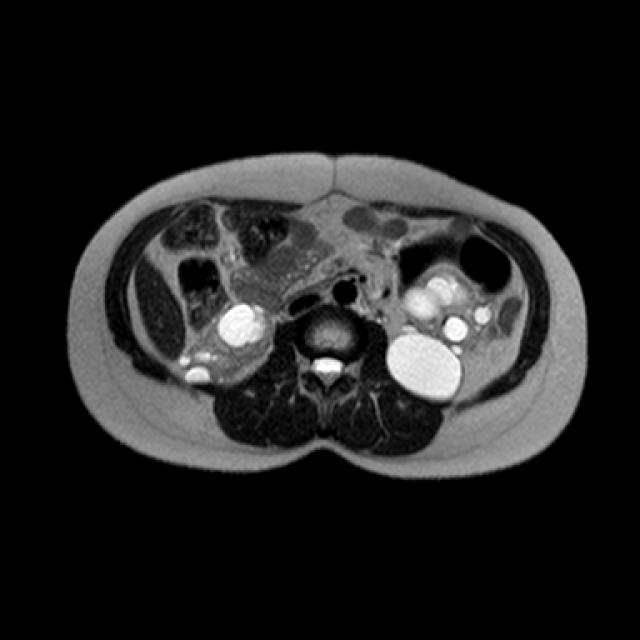sag: (178, 299, 275, 384)
sol: (385, 265, 502, 404)
